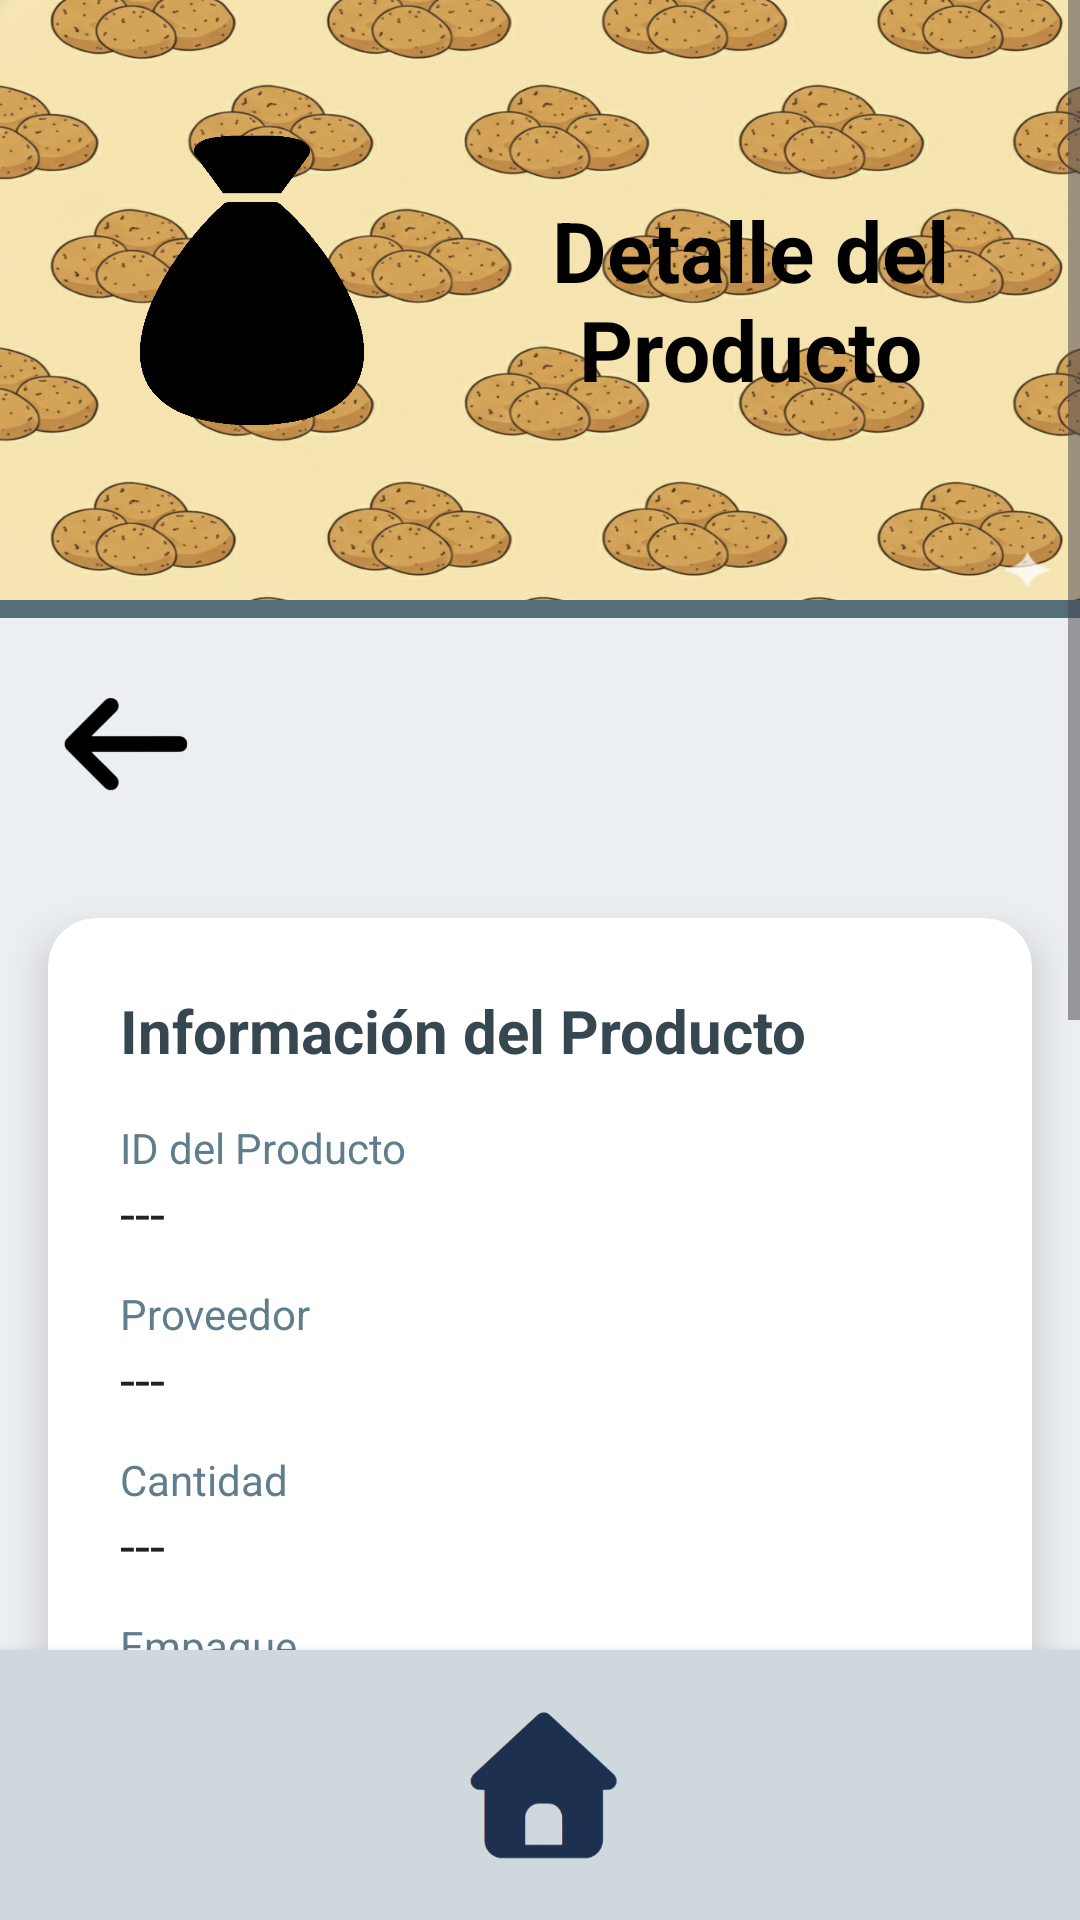

Icon bounding boxes for this 1080w x 1920h phone screenshot, format (x1, y1, x2, y2):
bolsita: (72, 120, 432, 441)
casita: (470, 1712, 617, 1859)
flecha: (64, 698, 188, 791)
